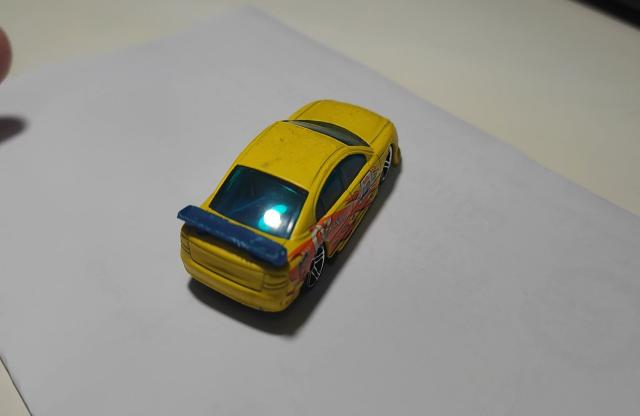02_OZSOME: (177, 99, 401, 312)
